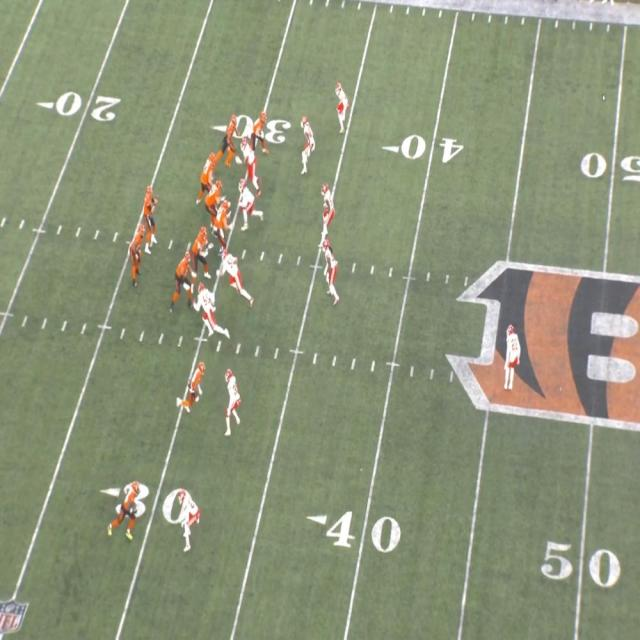center: (216, 202, 234, 250)
db: (176, 495, 200, 553), (225, 369, 243, 425), (301, 116, 315, 172), (506, 327, 517, 388), (335, 84, 348, 132)
lb: (322, 242, 339, 296), (320, 186, 339, 233)
qb: (143, 184, 158, 237)
skill: (111, 483, 144, 538), (182, 360, 206, 407), (129, 224, 145, 286), (225, 113, 244, 162), (248, 112, 268, 146)
